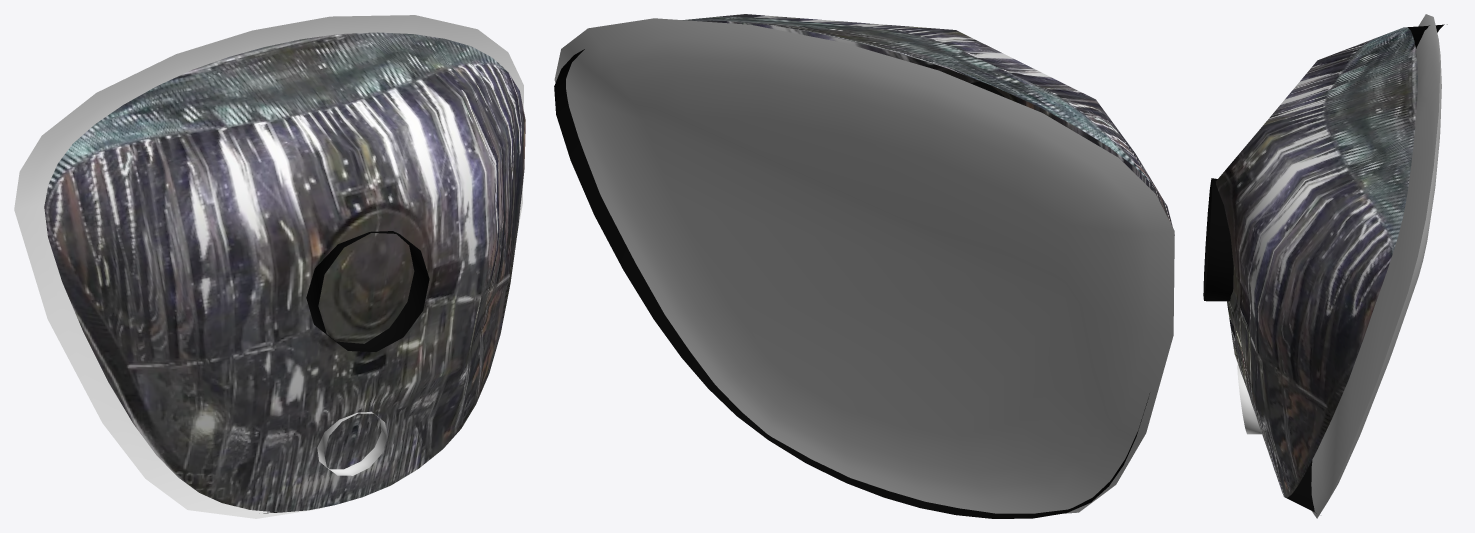
The model's file is Headlamp_STOCK.glb.
3 views of the same model, side by side, from view 1: azimuth 30°, elevation 25°; view 2: azimuth 150°, elevation 25°; view 3: azimuth 270°, elevation 25° (orthographic). The views are drawn at different scales.
Parts seen in each view (by area): view 1: Headlamp_STOCK, Headlamp_STOCK_GLSS; view 2: Headlamp_STOCK_GLSS, Headlamp_STOCK; view 3: Headlamp_STOCK, Headlamp_STOCK_GLSS.
Part boxes in pixels (x1,y1,x2,y2): Headlamp_STOCK: (44,32,525,513); Headlamp_STOCK_GLSS: (14,15,523,518); Headlamp_STOCK_GLSS: (554,18,1174,513); Headlamp_STOCK: (554,14,1174,518); Headlamp_STOCK: (1203,24,1447,513); Headlamp_STOCK_GLSS: (1311,14,1441,518).
Size of the model in its own units: 0.1773 by 0.1425 by 0.0804.
Materials: 6 (1 with a texture image).
